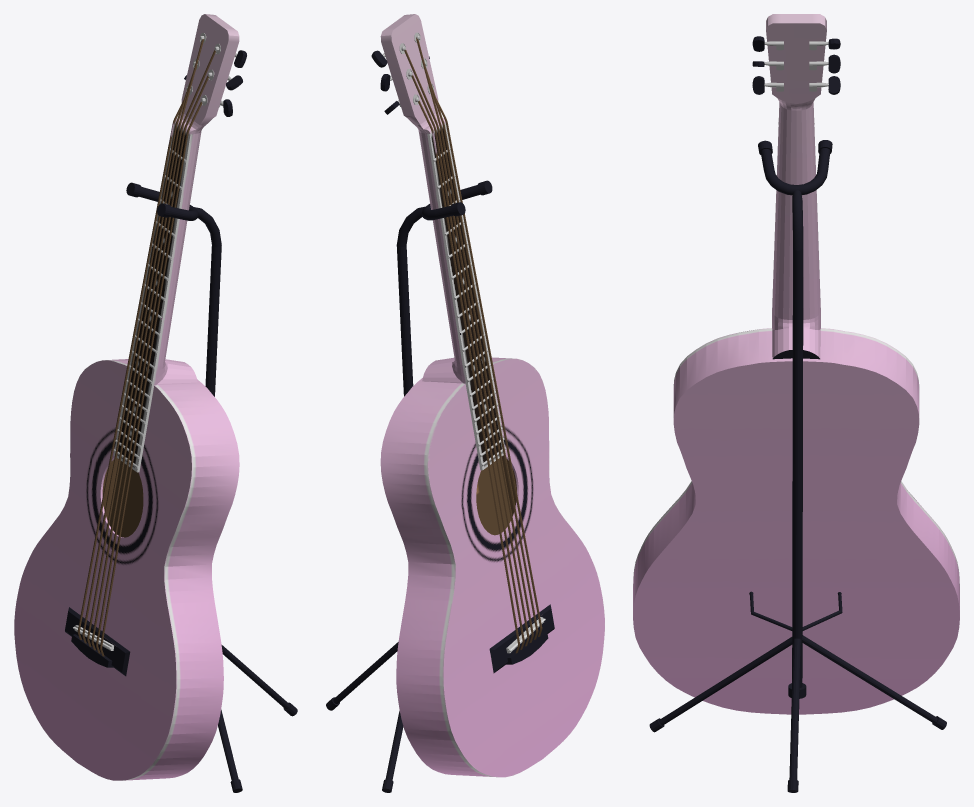
The model's file is guital.fbx.
The picture shows the model from 3 angles, left to right: view 1: azimuth 30°, elevation 25°; view 2: azimuth 150°, elevation 25°; view 3: azimuth 270°, elevation 25°; orthographic projection. The views are drawn at different scales.
Parts seen in each view (by area): view 1: pr_main_prop_01_guitar_geo, pr_main_prop_01_guitarstand_geo; view 2: pr_main_prop_01_guitar_geo, pr_main_prop_01_guitarstand_geo; view 3: pr_main_prop_01_guitar_geo, pr_main_prop_01_guitarstand_geo.
Part boxes in pixels (x1,y1,x2,y2): pr_main_prop_01_guitar_geo: (14,14,246,780); pr_main_prop_01_guitarstand_geo: (126,182,297,792); pr_main_prop_01_guitar_geo: (371,14,604,777); pr_main_prop_01_guitarstand_geo: (326,180,492,792); pr_main_prop_01_guitar_geo: (633,14,959,714); pr_main_prop_01_guitarstand_geo: (649,140,946,792).
Size of the model in its own units: 27.6 by 86.51 by 34.28.
